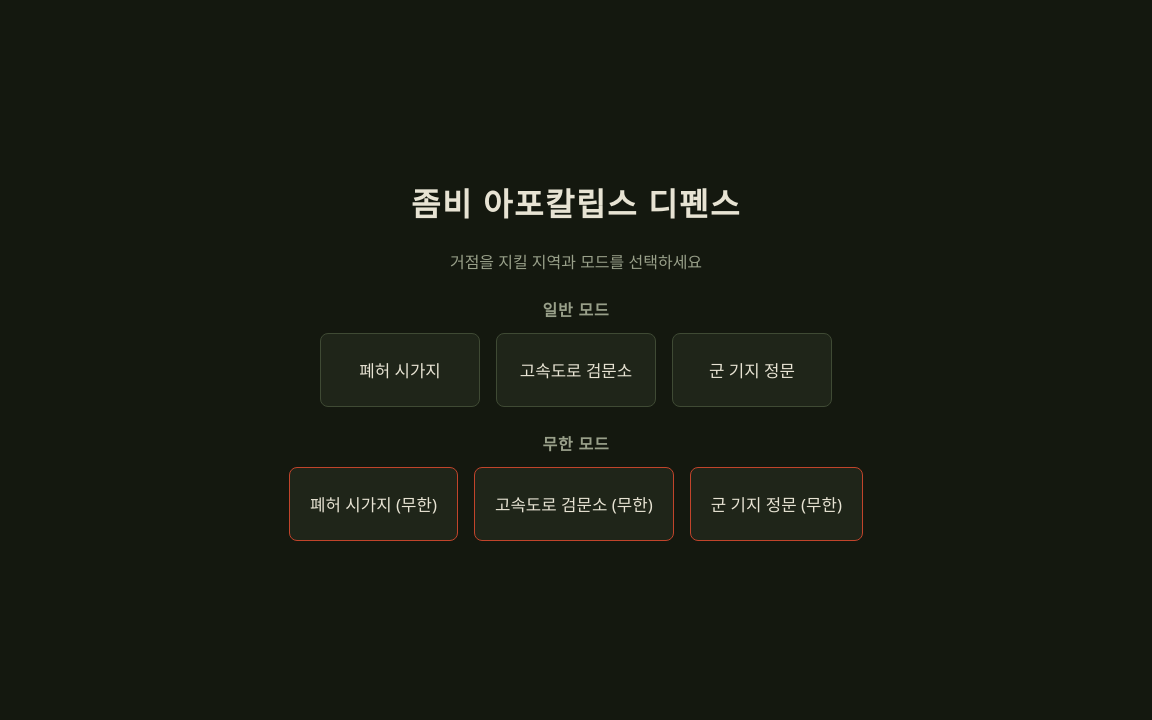
Test: App › selling a placed tower refunds gold and removes the inspector panel
Click the button "폐허 시가지".
click(400, 370)  # box [320,333,480,407]
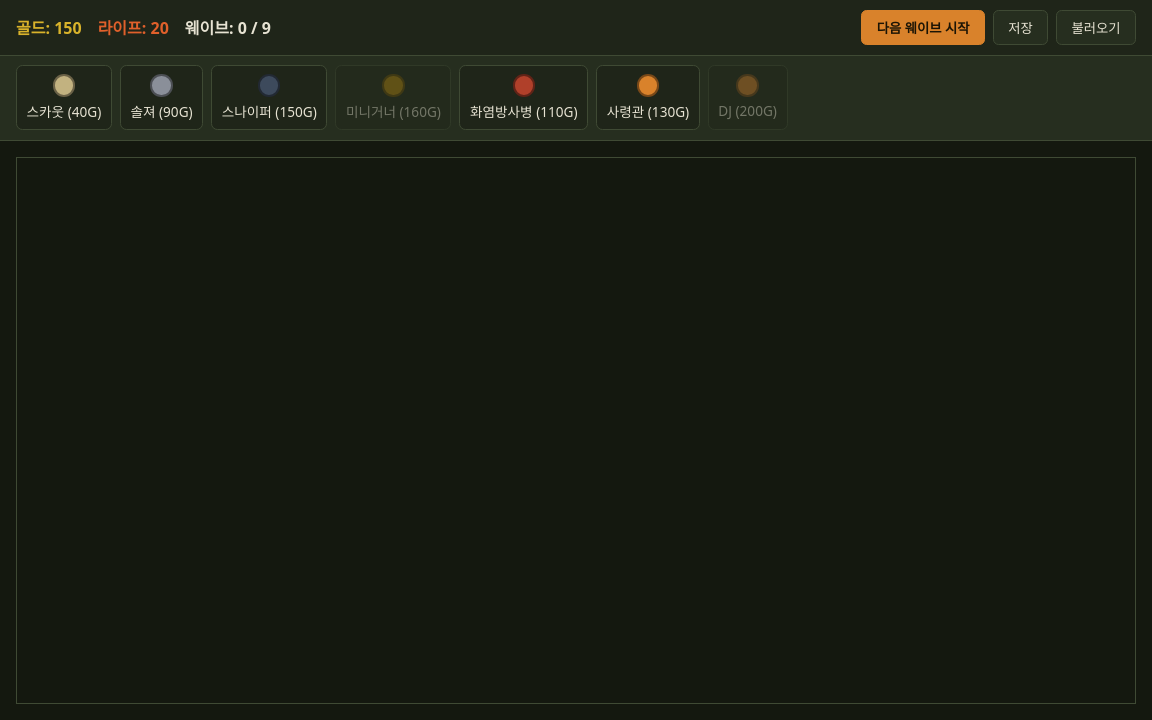
Click the button "스카웃 (40G)".
click(64, 98)  # box [16,65,112,130]
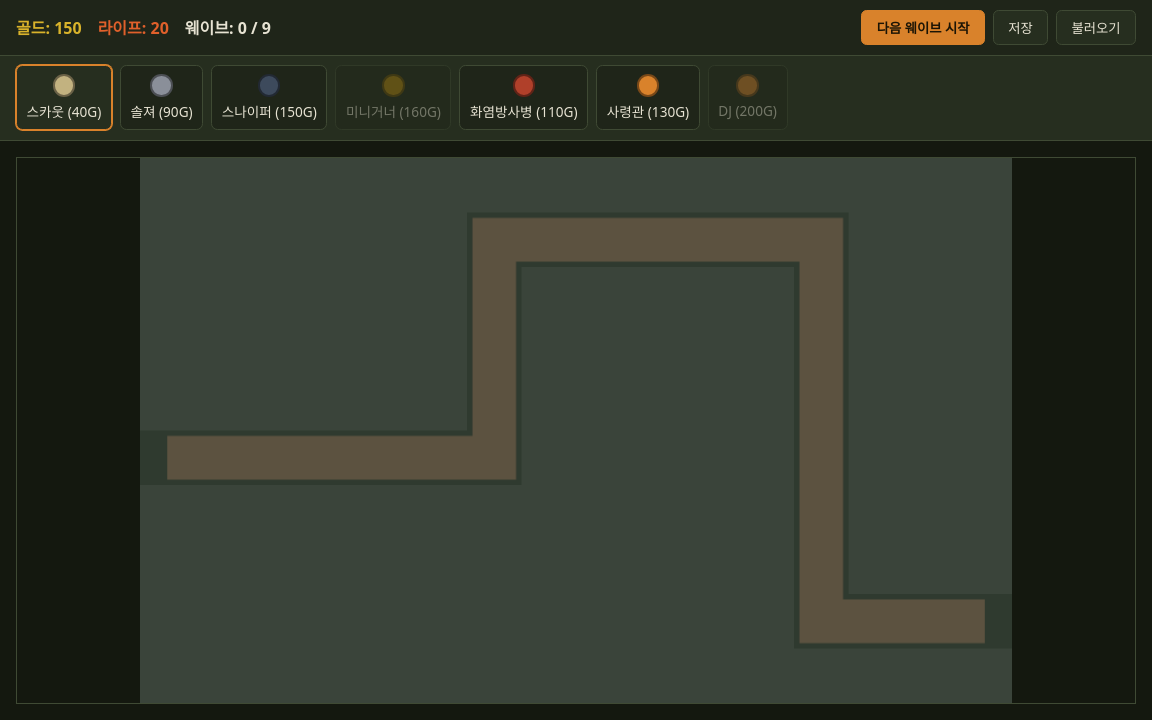
Click the drawing.
click(576, 430)  # box [16,157,1136,704]
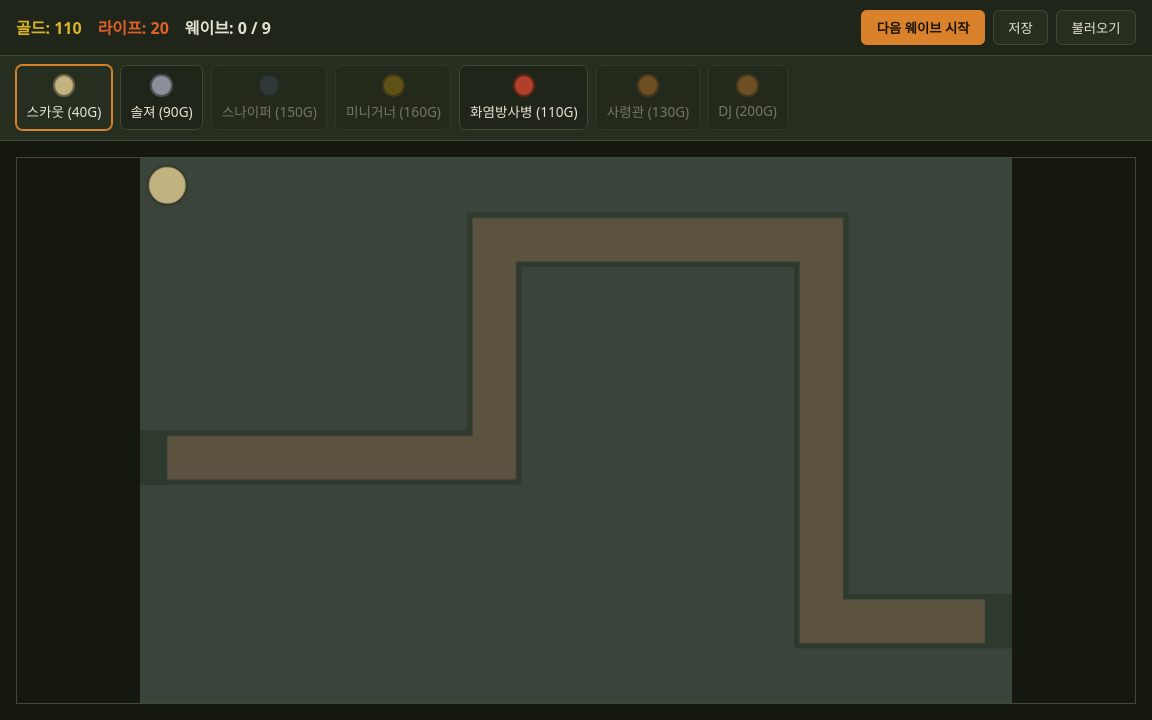
Click the button "스카웃 (40G)".
click(64, 98)  # box [16,65,112,130]
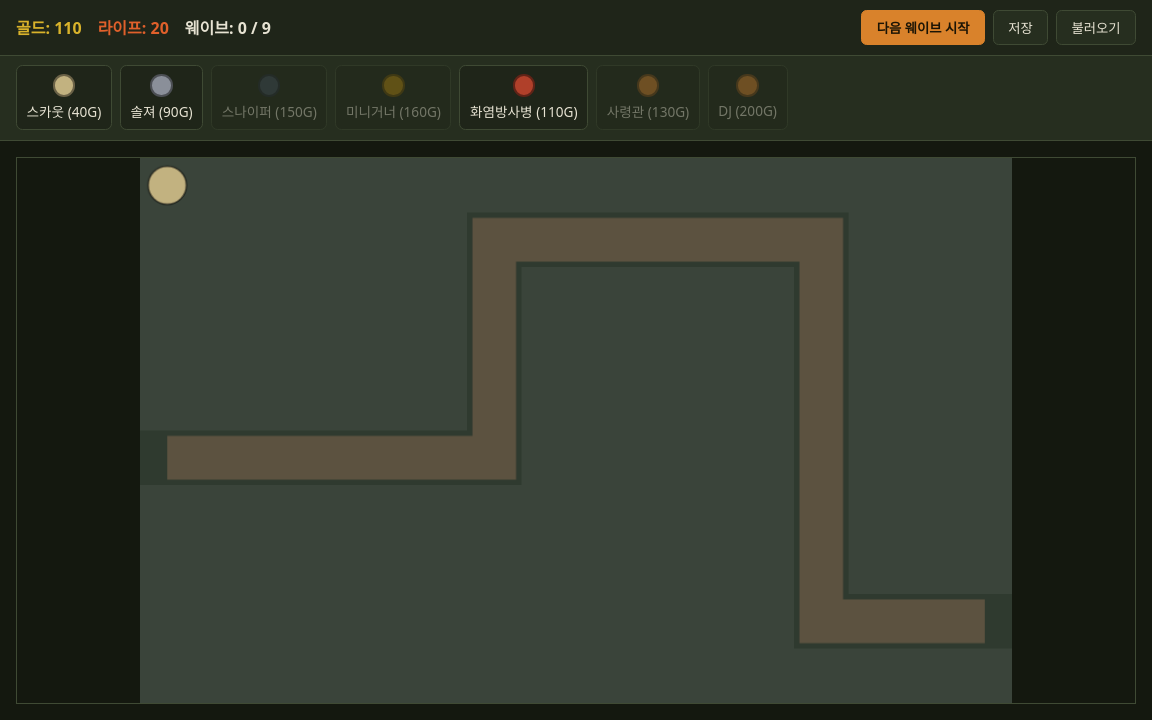
Click the drawing.
click(576, 430)  # box [16,157,1136,704]
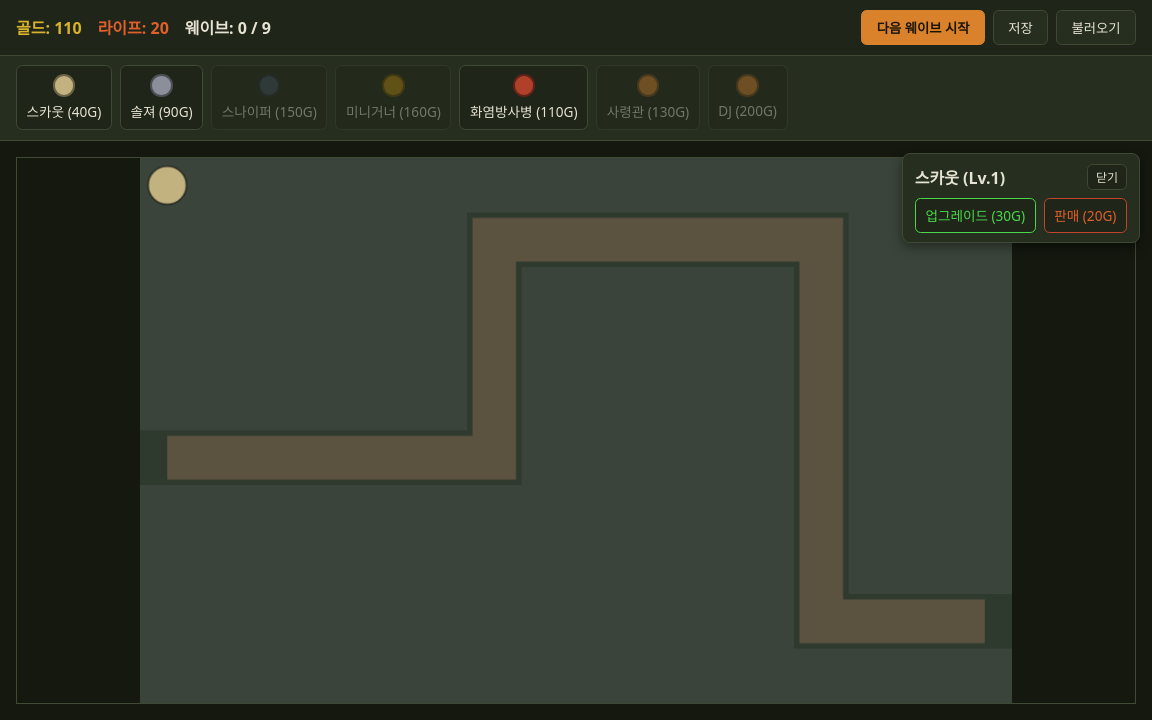
expect the text "골드: 110" is shown: met, box [16,15,82,39]
Click the button "판매 (20G)".
click(1085, 215)  # box [1044,198,1127,233]
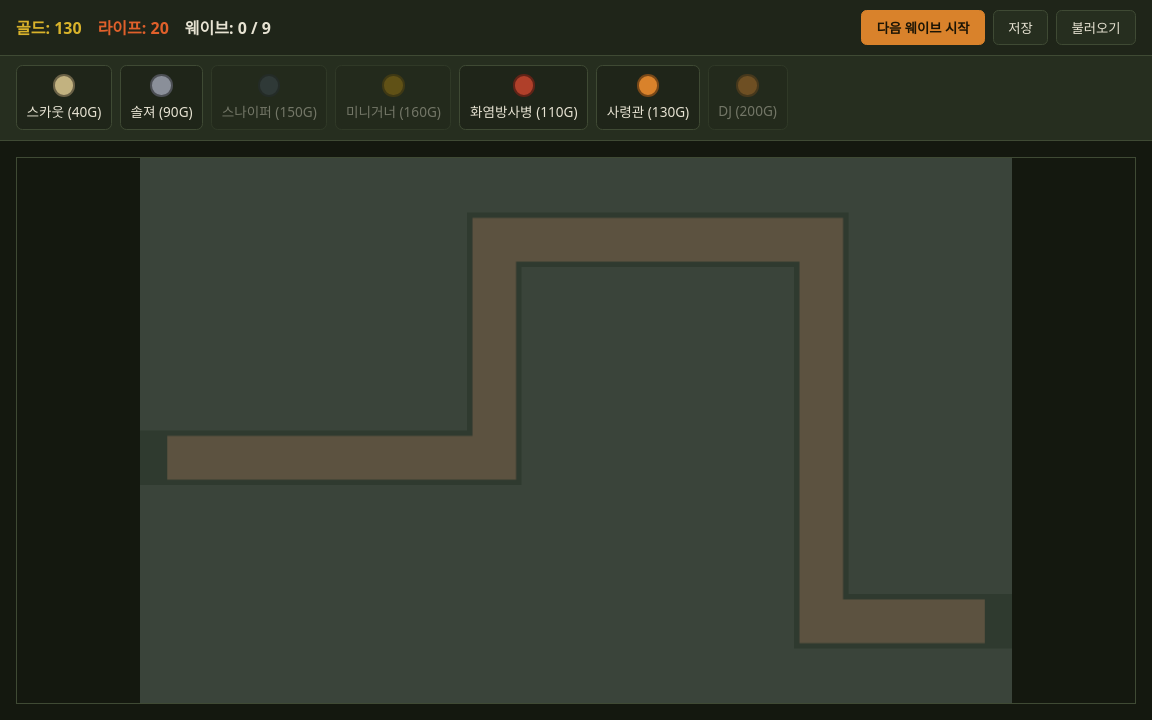
expect the text "골드: 130" is shown: met, box [16,15,82,39]
expect the text "스카웃 (Lv." is gone: met
